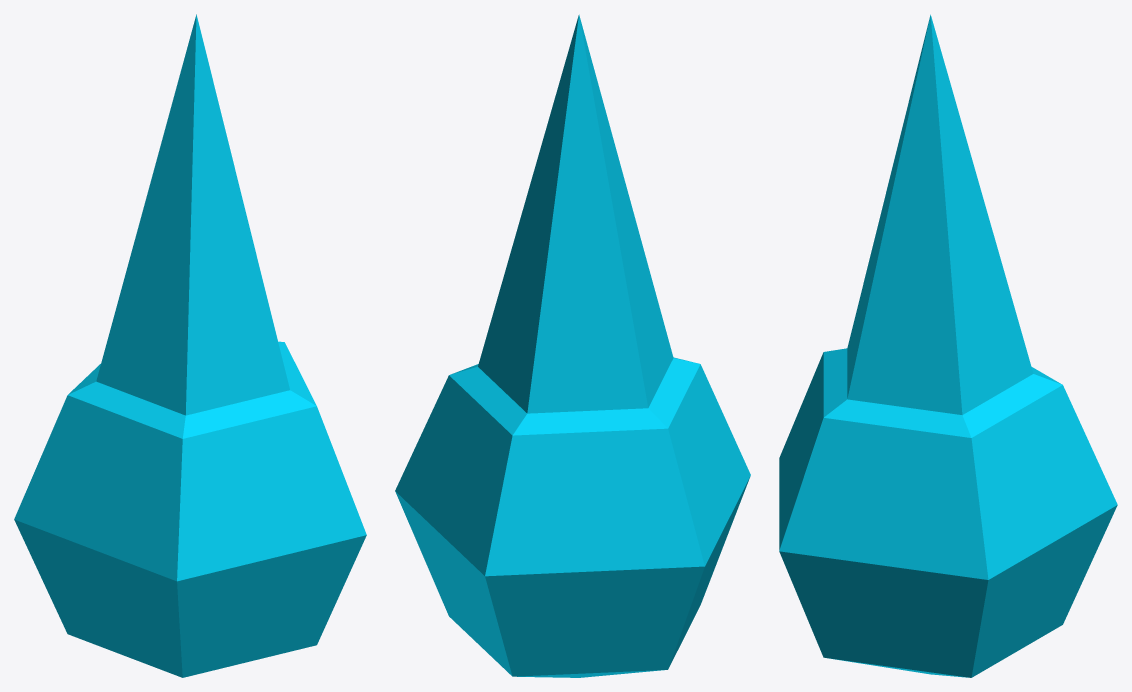
Rendered from Spit.fbx.
3 views of the same model, side by side, from view 1: azimuth 30°, elevation 25°; view 2: azimuth 150°, elevation 25°; view 3: azimuth 270°, elevation 25° (orthographic).
Visible parts, largest first — view 1: Esfera, Cono; view 2: Esfera, Cono; view 3: Esfera, Cono.
Boxes of the visible parts, box(x1,y1,x2,y2) form: Esfera: box(14, 341, 366, 677); Cono: box(96, 14, 289, 415); Esfera: box(395, 357, 750, 677); Cono: box(478, 14, 673, 413); Esfera: box(779, 348, 1117, 677); Cono: box(847, 14, 1033, 415).
Size of the model in its own units: 1.55 by 3.18 by 1.48.
